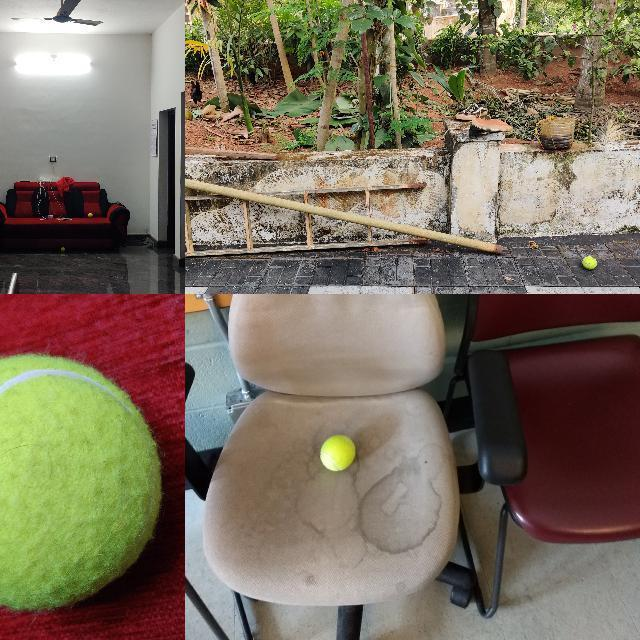tennis-ball: (0, 352, 163, 610), (319, 434, 355, 472), (582, 256, 597, 269), (60, 247, 64, 252), (88, 213, 92, 217)
